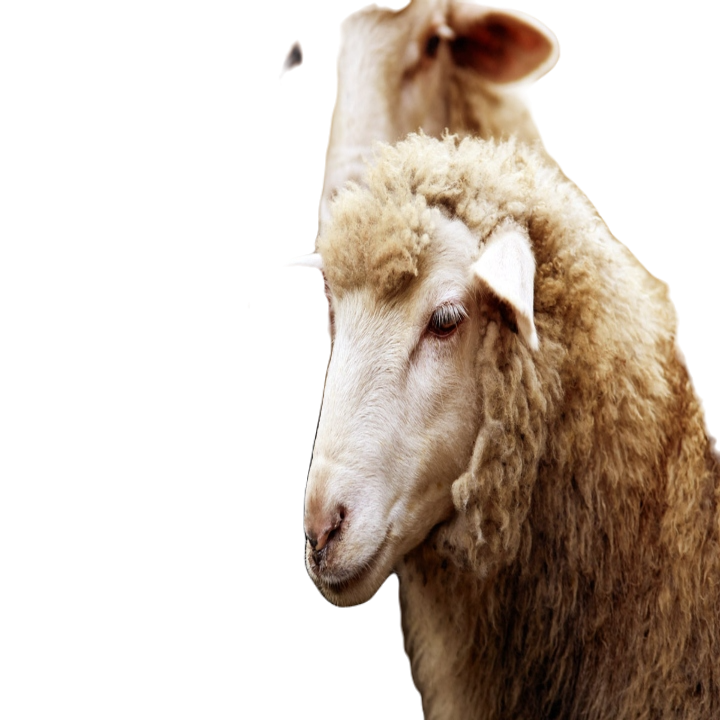Sheep: (285, 126, 719, 719)
